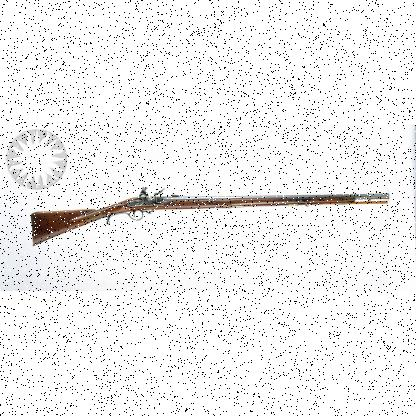gun: (29, 192, 389, 244)
